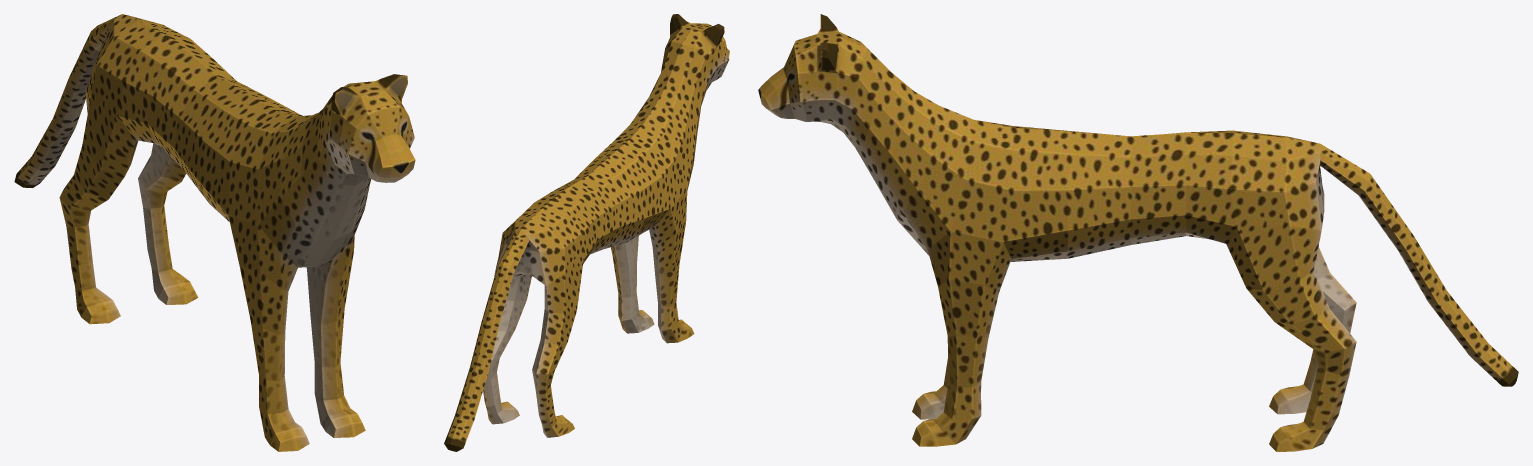
Rendered from guepardo.glb.
3 views of the same model, side by side, from view 1: azimuth 30°, elevation 25°; view 2: azimuth 150°, elevation 25°; view 3: azimuth 270°, elevation 25° (orthographic). The views are drawn at different scales.
Parts seen in each view (by area): view 1: Cheetah_mesh; view 2: Cheetah_mesh; view 3: Cheetah_mesh.
Part boxes in pixels (x1=…): Cheetah_mesh: x1=14, y1=14, x2=415, y2=451; Cheetah_mesh: x1=444, y1=14, x2=729, y2=451; Cheetah_mesh: x1=758, y1=14, x2=1518, y2=451.
Bounding box in the file's own units: 2.03 × 7.05 × 12.26.
Materials: 1 (1 with a texture image).
